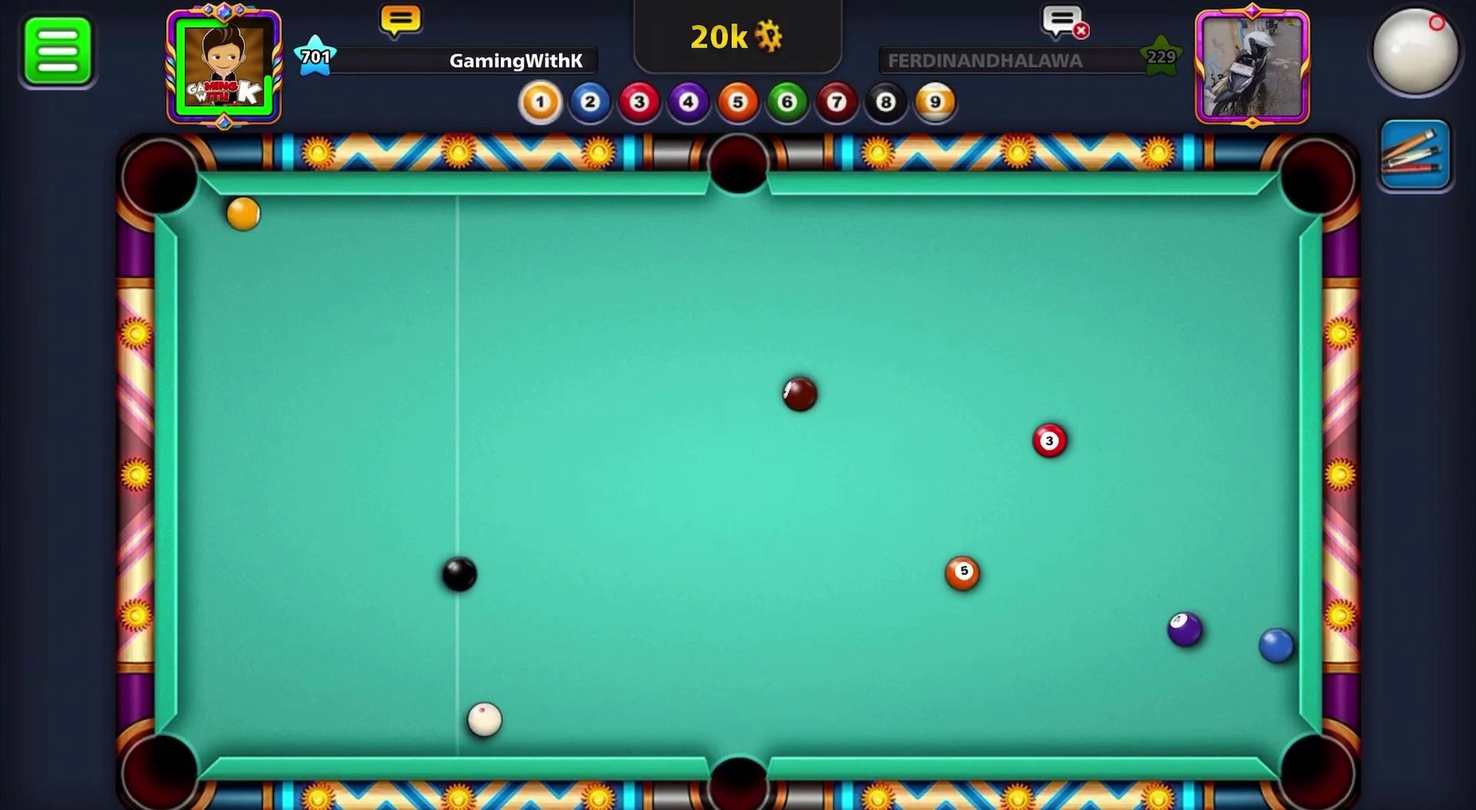Ball: (775, 373, 824, 419), (435, 552, 484, 598), (940, 547, 985, 596), (1167, 603, 1208, 649), (222, 194, 268, 235), (1030, 417, 1070, 462), (1258, 623, 1294, 665)
Hole: (106, 127, 222, 235), (1268, 133, 1364, 229), (1267, 713, 1362, 809), (113, 724, 206, 809), (699, 124, 779, 207), (694, 738, 782, 809)
Play_Area: (176, 194, 1299, 754)
Spin: (1345, 0, 1475, 115)
White: (458, 699, 505, 742)
